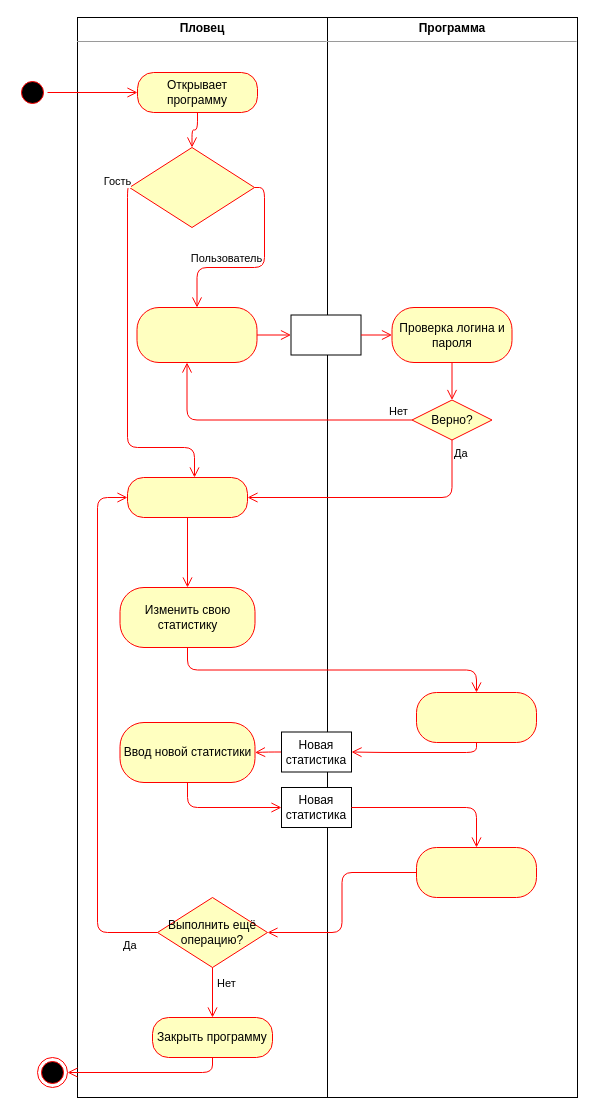
Image size: 595x1115. Some labels were removed from this diagram. Each missing label, with the centre of its shape:
"Вводит логин и пароль" goes at (196,334).
"Выбор операции" goes at (187,497).
"Вывод все вашей статистики" goes at (476,717).
"Изменение старой статистики на новую" goes at (476,872).
"Пароль и Логин" goes at (325,334).
"Способ входа" goes at (191,187).
